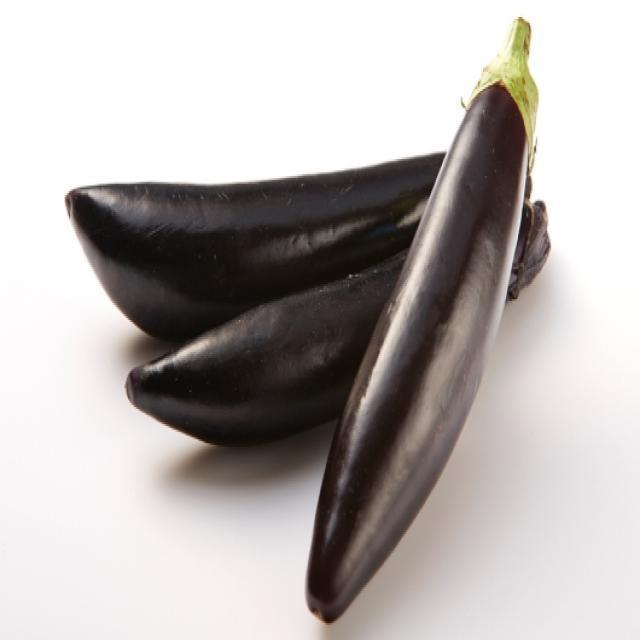eggplant: (322, 22, 548, 620), (54, 124, 578, 322)
